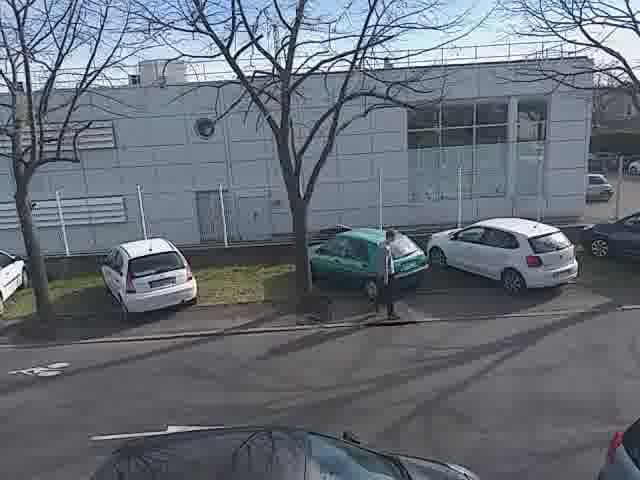persona: (361, 226, 410, 319)
